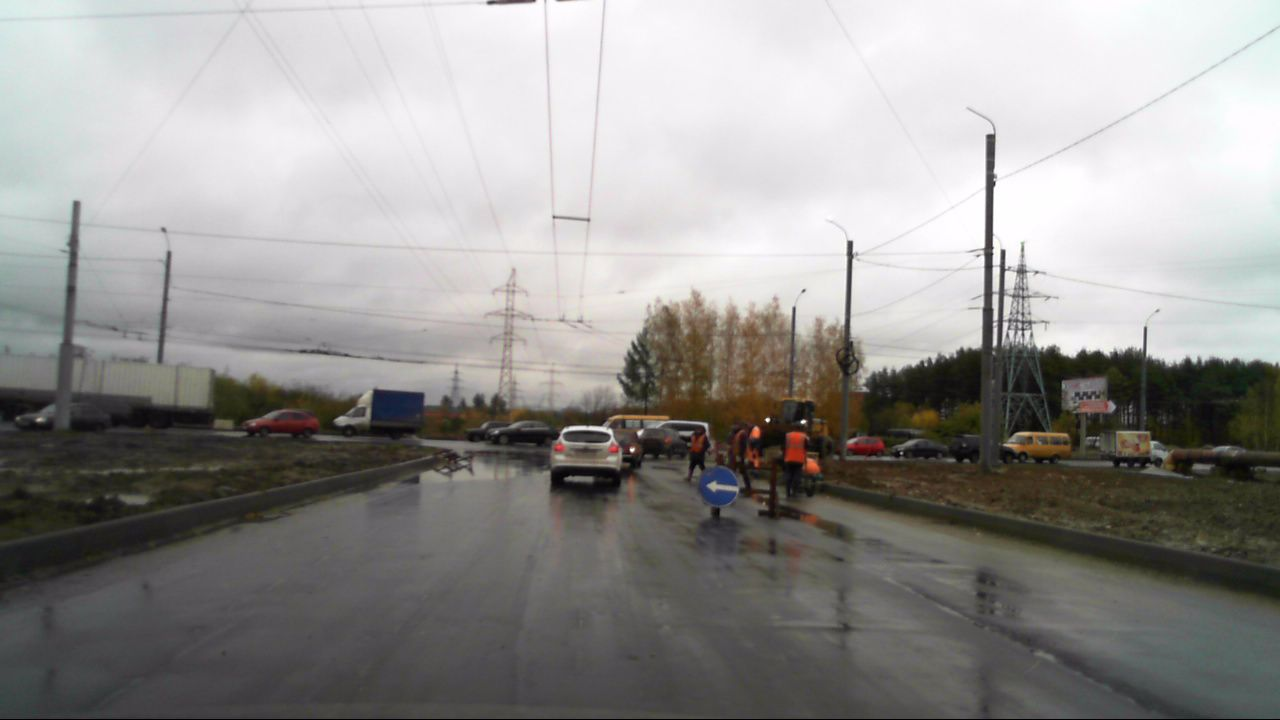Turn Left: (700, 466, 739, 506)
